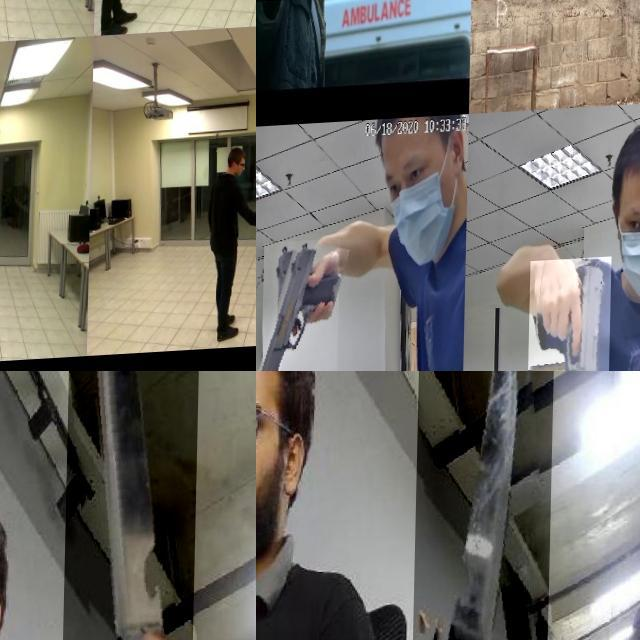-: (414, 371, 556, 640), (63, 371, 202, 640)
gun-knife-thesis - v11 Yolov5 augmented: (263, 240, 342, 371), (529, 262, 613, 371), (552, 0, 622, 40), (256, 0, 292, 35), (151, 0, 168, 14), (0, 192, 8, 218), (0, 0, 8, 17)
